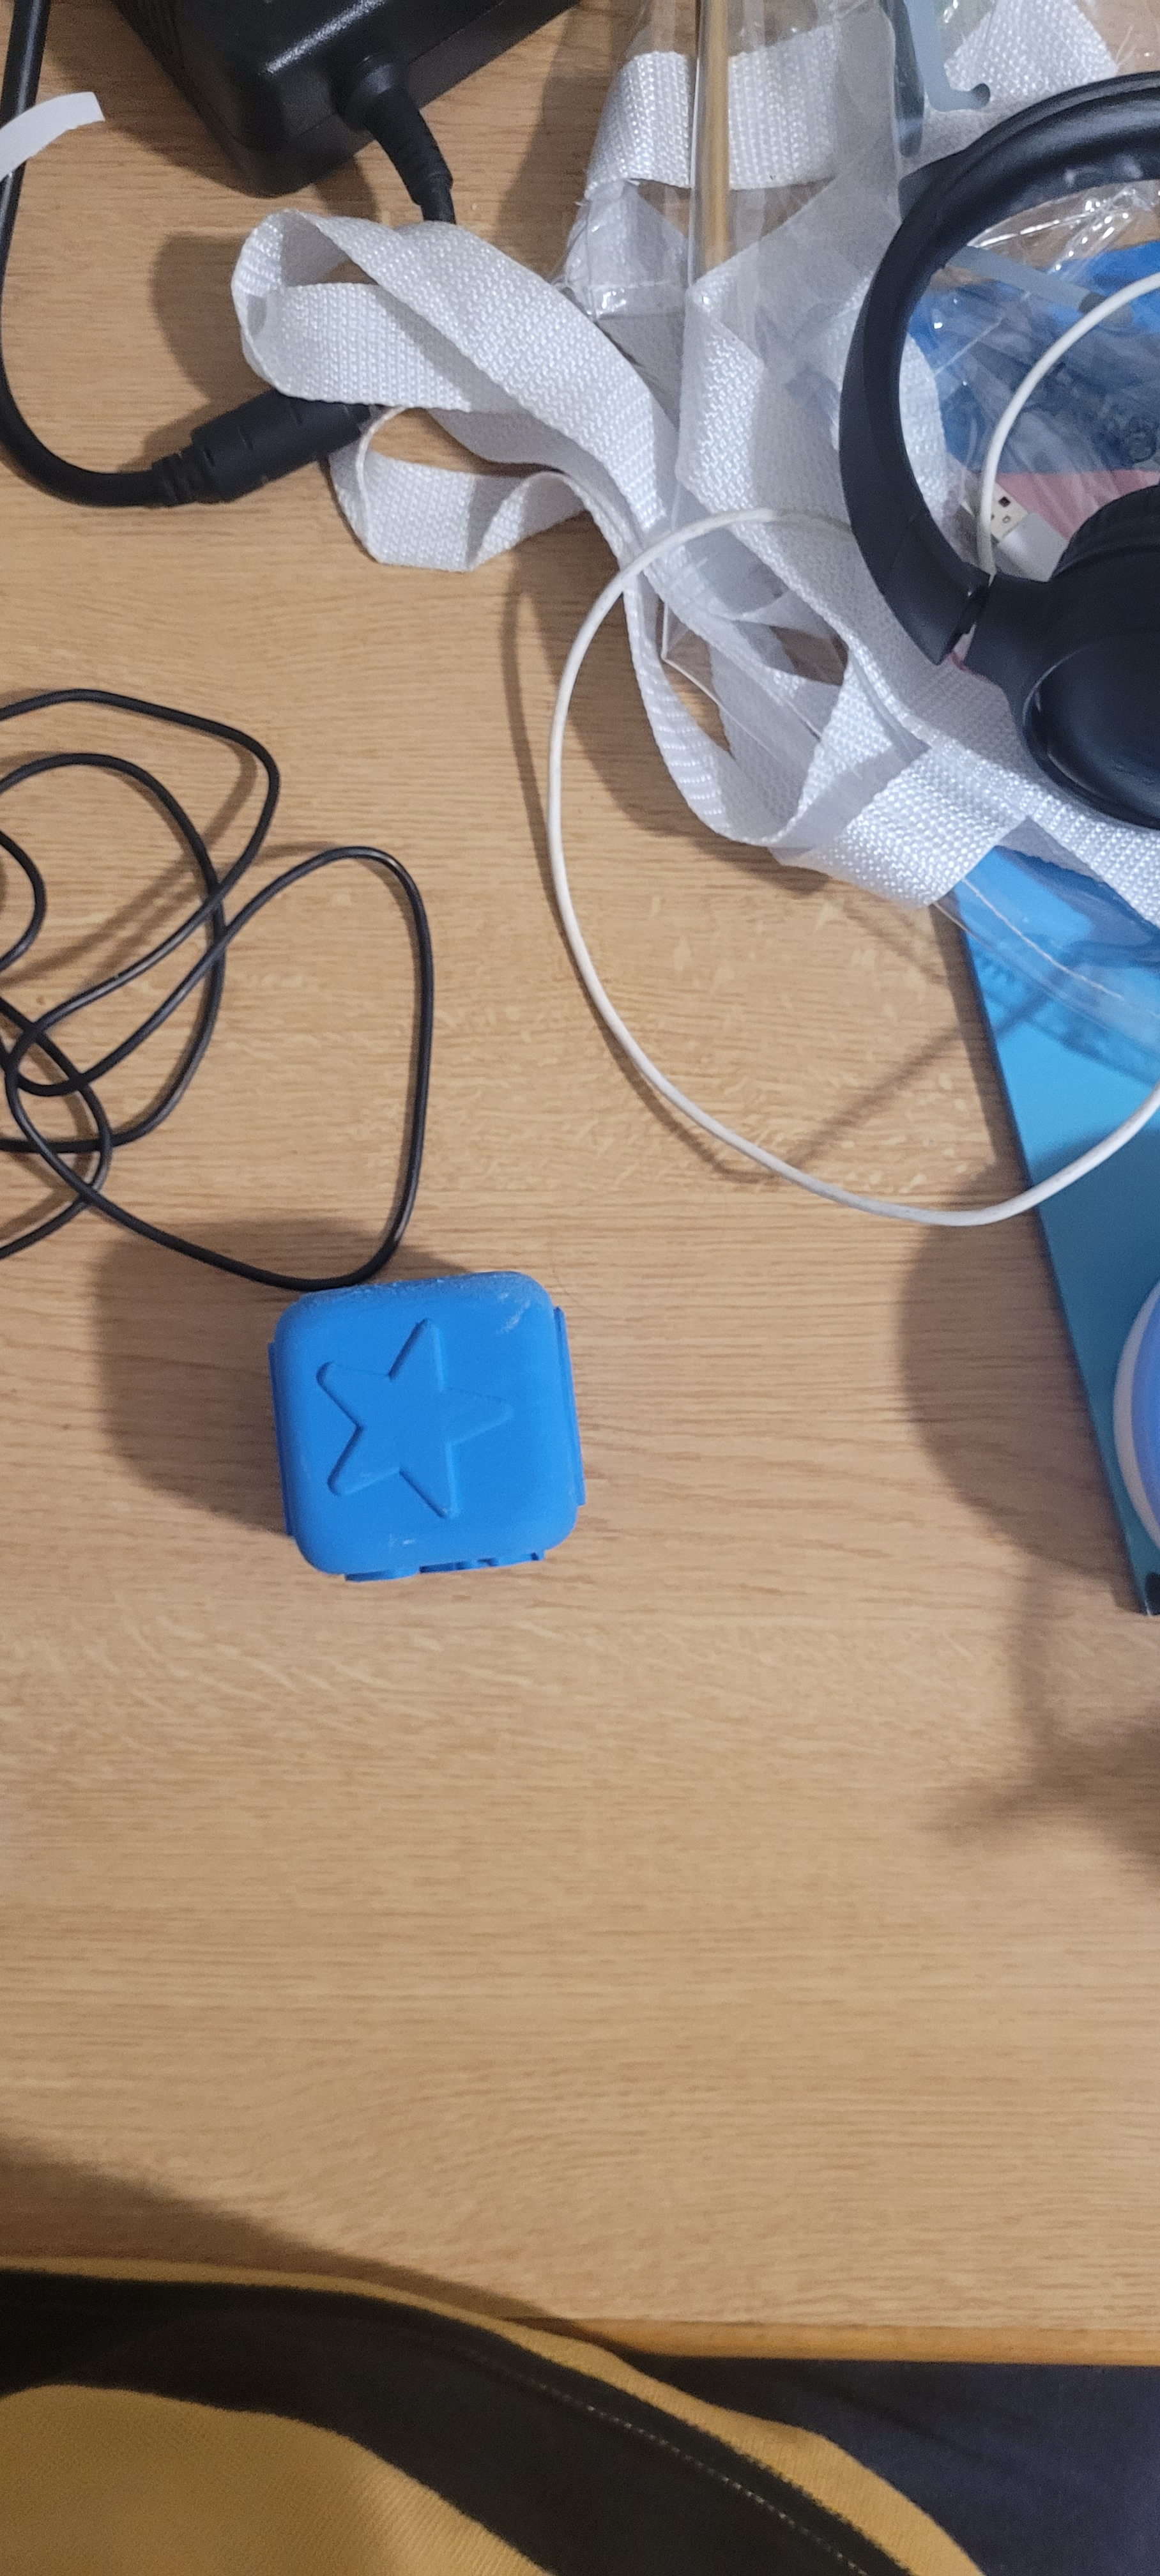Star: (258, 1298, 555, 1543)
